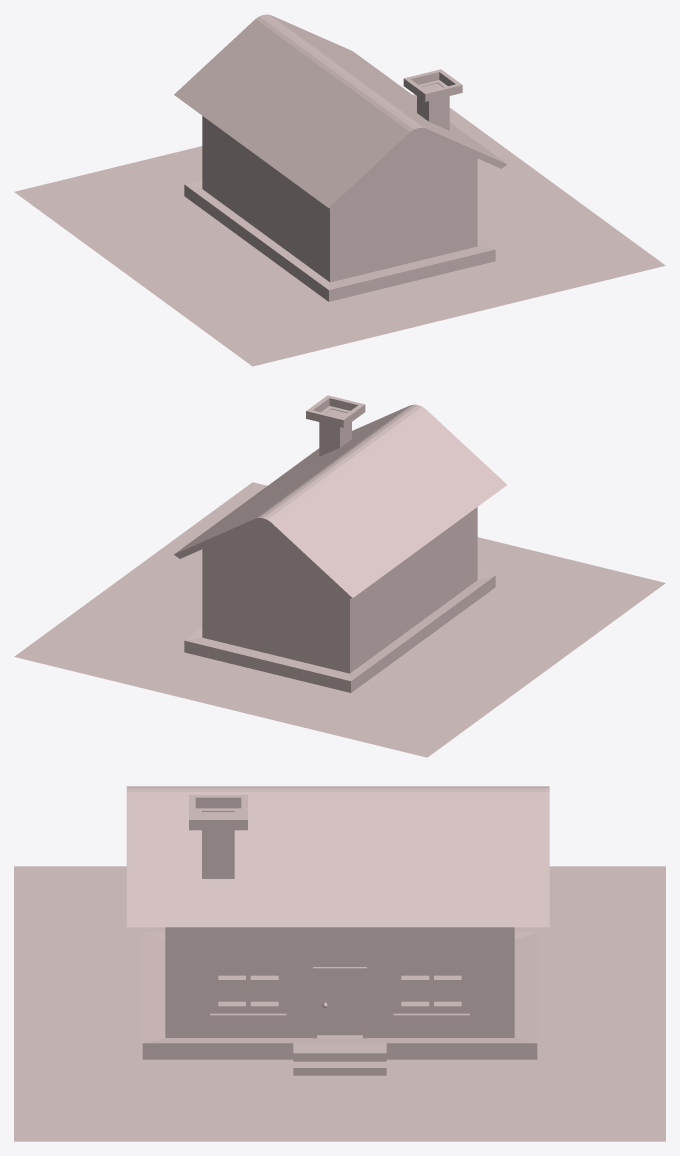
3 renders of one model, top to bottom at view 1: azimuth 30°, elevation 25°; view 2: azimuth 150°, elevation 25°; view 3: azimuth 270°, elevation 25°, orthographic. The views are drawn at different scales.
Parts seen in each view (by area): view 1: Cube_0, Roof_1, Chimney_2; view 2: Cube_0, Roof_1, Chimney_2; view 3: Cube_0, Roof_1, window_4, Door_3, Chimney_2.
Boxes of the visible parts, left/top/right/bottom form: Cube_0: left=14, top=94, right=665, bottom=366; Roof_1: left=174, top=14, right=507, bottom=209; Chimney_2: left=403, top=69, right=462, bottom=130; Cube_0: left=14, top=482, right=665, bottom=757; Roof_1: left=174, top=404, right=506, bottom=599; Chimney_2: left=306, top=395, right=365, bottom=456; Cube_0: left=14, top=866, right=665, bottom=1141; Roof_1: left=126, top=786, right=549, bottom=927; window_4: left=210, top=961, right=469, bottom=1013; Door_3: left=313, top=967, right=366, bottom=1038; Chimney_2: left=189, top=795, right=247, bottom=878.
Size of the model in its own units: 17.83 by 6.94 by 17.83.
